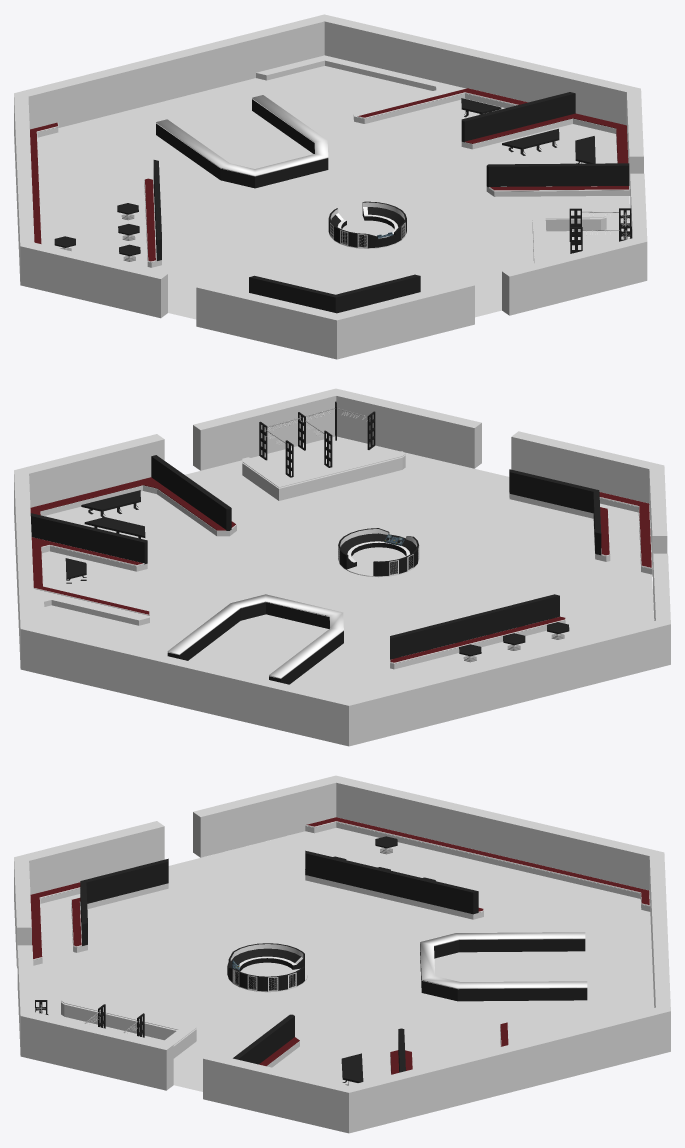
The model's file is DiscoTextured.fbx.
3 views of the same model, one above another, from view 1: azimuth 30°, elevation 25°; view 2: azimuth 150°, elevation 25°; view 3: azimuth 270°, elevation 25° (orthographic). The views are drawn at different scales.
Visible parts, largest first — view 1: Plane.001, Plane, Objeto_226.002, Objeto_21.003, SttingDiscoteque_4, SttingDiscoteque_5, SttingDiscoteque_2, Cylinder.008, Objeto_174.003, Table.001, Objeto_183, Cylinder.017 (+7 smaller); view 2: Plane.001, Plane, Objeto_21.003, SttingDiscoteque, Objeto_226.002, SttingDiscoteque_2, SttingDiscoteque_5, Cylinder.008, Table, SttingDiscoteque_4, Table.001, Objeto_181 (+8 smaller); view 3: Plane.001, Plane, Objeto_21.003, SttingDiscoteque, Cylinder.008, SttingDiscoteque_5, Objeto_23.004, Table, Objeto_183, SttingDiscoteque_4, Table.001, Objeto_17.004 (+6 smaller).
Boxes of the visible parts, box(x1,y1,x2,y2) form: Plane.001: box(37, 66, 629, 319); Plane: box(14, 14, 647, 359); Objeto_226.002: box(256, 55, 629, 196); Objeto_21.003: box(156, 95, 328, 188); SttingDiscoteque_4: box(486, 163, 629, 187); SttingDiscoteque_5: box(249, 274, 420, 313); SttingDiscoteque_2: box(461, 92, 575, 142); Cylinder.008: box(328, 201, 406, 248); Objeto_174.003: box(466, 113, 627, 163); Table.001: box(532, 212, 606, 262); Objeto_183: box(30, 122, 57, 243); Cylinder.017: box(330, 215, 405, 248); Plane.001: box(42, 436, 654, 698); Plane: box(14, 388, 670, 746); Objeto_21.003: box(167, 594, 343, 684); SttingDiscoteque: box(390, 594, 559, 659); Objeto_226.002: box(34, 485, 236, 627); SttingDiscoteque_2: box(30, 513, 147, 564); SttingDiscoteque_5: box(509, 469, 601, 555); Cylinder.008: box(338, 528, 419, 576); Table: box(242, 455, 405, 500); SttingDiscoteque_4: box(151, 455, 231, 530); Table.001: box(242, 451, 405, 487); Objeto_181: box(31, 537, 149, 614); Plane.001: box(33, 827, 654, 1091); Plane: box(14, 775, 670, 1133); Objeto_21.003: box(420, 932, 587, 1001); SttingDiscoteque: box(305, 850, 478, 914); Cylinder.008: box(227, 943, 304, 991); SttingDiscoteque_5: box(80, 858, 168, 945); Objeto_23.004: box(305, 822, 650, 911); Table: box(61, 1001, 196, 1058); Objeto_183: box(306, 817, 649, 904); SttingDiscoteque_4: box(233, 1014, 294, 1064); Table.001: box(61, 998, 196, 1044); Objeto_17.004: box(305, 870, 483, 919).
Size of the model in its own units: 4400 by 5030 by 319.
